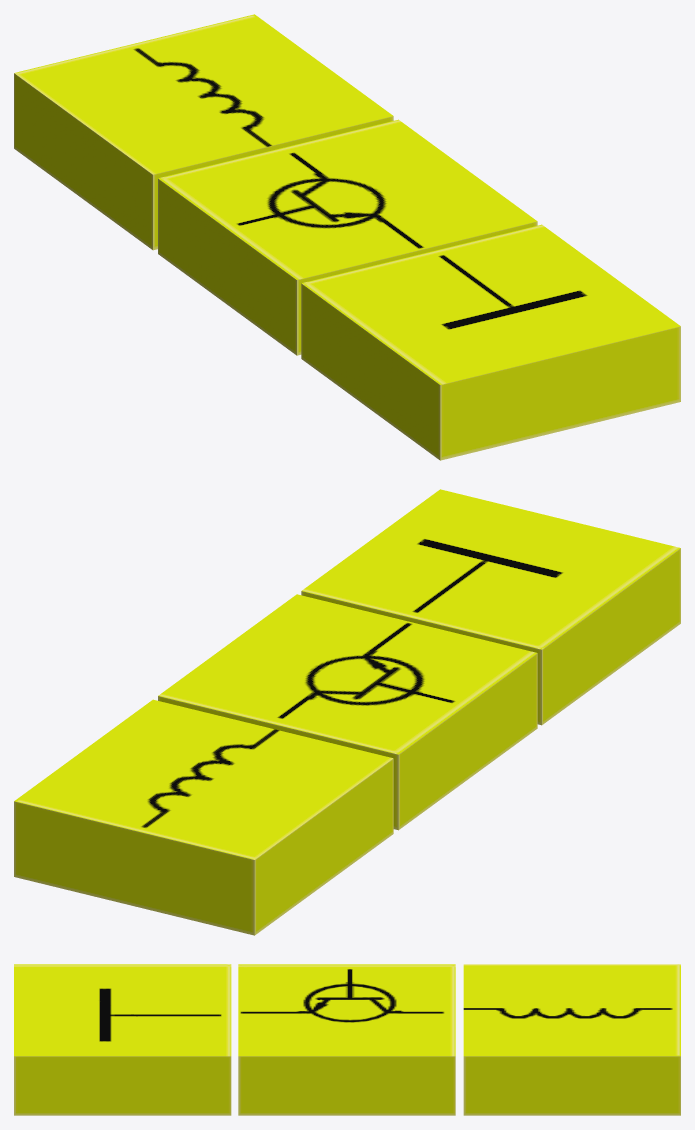
Rendered from Electro08_9.FBX.
The picture shows the model from 3 angles, top to bottom: view 1: azimuth 30°, elevation 25°; view 2: azimuth 150°, elevation 25°; view 3: azimuth 270°, elevation 25°; orthographic projection. The views are drawn at different scales.
Visible parts, largest first — view 1: Box003; view 2: Box003; view 3: Box003.
Part boxes in pixels (x1,y1,x2,y2): Box003: (14,14,680,460); Box003: (14,489,680,935); Box003: (14,964,680,1115).
Bounding box in the file's own units: 19.69 × 5.91 × 60.38.
